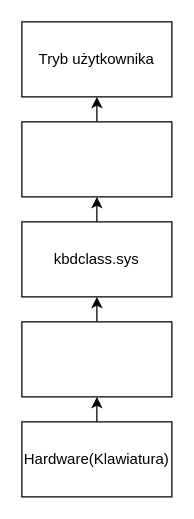
The diagram is 194 pixels wide and 519 high, and some of its shapes have lost their labels. Here are the shapes that lost their labels. From the top down, the centre of each, then its label:
At [96,159]: "OS_keylogger".
At [96,359]: "sterownik portu klawiatury".
